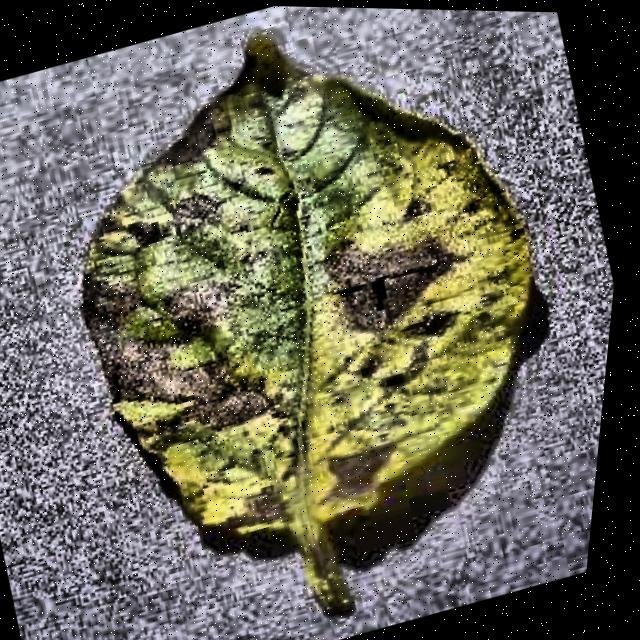Potato_leaf_early_blight: (84, 36, 533, 607)
